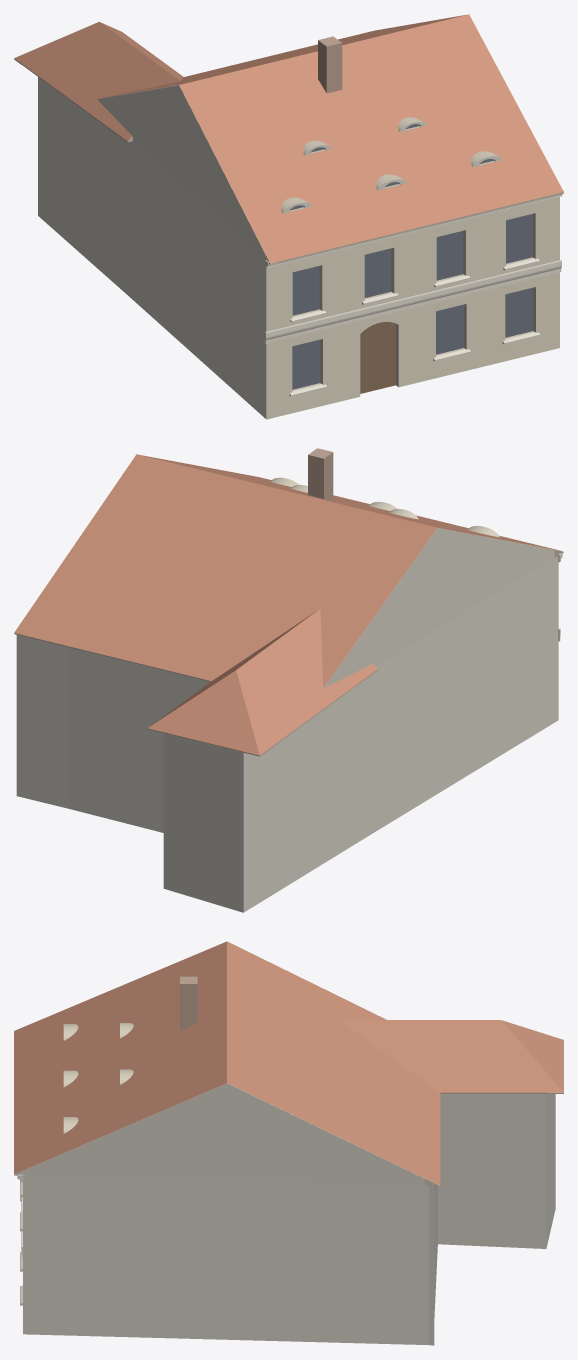
3 renders of one model, top to bottom at view 1: azimuth 30°, elevation 25°; view 2: azimuth 150°, elevation 25°; view 3: azimuth 270°, elevation 25°, orthographic. The views are drawn at different scales.
Parts seen in each view (by area): view 1: CP_111_Masonry, CP_111_Roof, CP_111_Gable_L_gable, CP_111_WingRoof_Rear_Wing, CP_111_Cornice_sign_band_0, CP_111_Chimney_0, CP_111_Cornice_eave_0, CP_111_Roof_EaveClosure_1; view 2: CP_111_Masonry, CP_111_Roof, CP_111_WingRoof_Rear_Wing, CP_111_Gable_L_gable, CP_111_Chimney_0; view 3: CP_111_Masonry, CP_111_Roof, CP_111_Gable_R_gable, CP_111_WingRoof_Rear_Wing, CP_111_Chimney_0.
Boxes of the visible parts, box(x1,y1,x2,y2) form: CP_111_Masonry: box(38, 77, 559, 419); CP_111_Roof: box(101, 14, 563, 263); CP_111_Gable_L_gable: box(97, 85, 276, 264); CP_111_WingRoof_Rear_Wing: box(14, 21, 183, 141); CP_111_Cornice_sign_band_0: box(265, 260, 561, 343); CP_111_Chimney_0: box(318, 36, 342, 93); CP_111_Cornice_eave_0: box(265, 190, 563, 268); CP_111_Roof_EaveClosure_1: box(267, 192, 563, 264); CP_111_Masonry: box(16, 556, 558, 912); CP_111_Roof: box(14, 454, 560, 687); CP_111_WingRoof_Rear_Wing: box(148, 608, 377, 755); CP_111_Gable_L_gable: box(324, 528, 563, 687); CP_111_Chimney_0: box(308, 448, 333, 500); CP_111_Masonry: box(23, 1094, 555, 1345); CP_111_Roof: box(14, 941, 440, 1185); CP_111_Gable_R_gable: box(14, 1083, 439, 1186); CP_111_WingRoof_Rear_Wing: box(339, 1020, 563, 1092); CP_111_Chimney_0: box(180, 976, 197, 1030).
Bounding box in the file's own units: 14.39 × 12.2 × 21.55.
